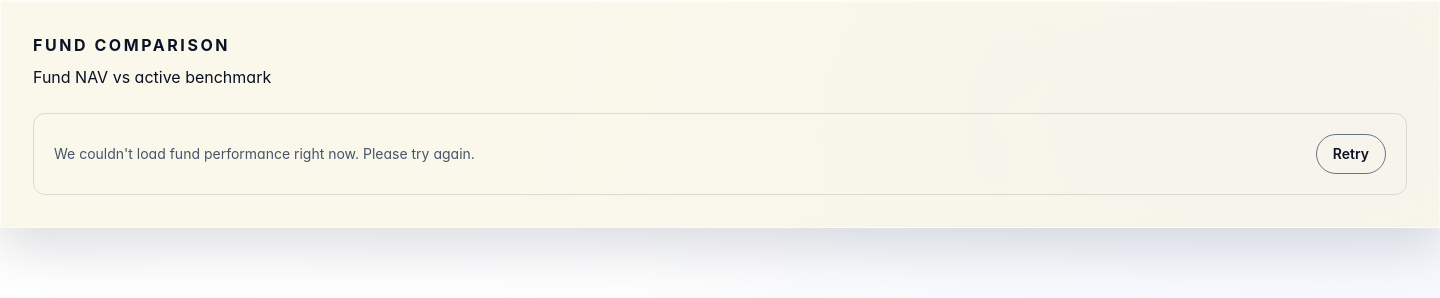
it: FundComparison › shows a retryable error and retries the failed request
Expected: the message shows "We couldn't load fund performance right now. Please try again.", [54,145,475,162]
Click the button "Retry". click: {"x": 1351, "y": 154}
box: [1316,134,1386,174]
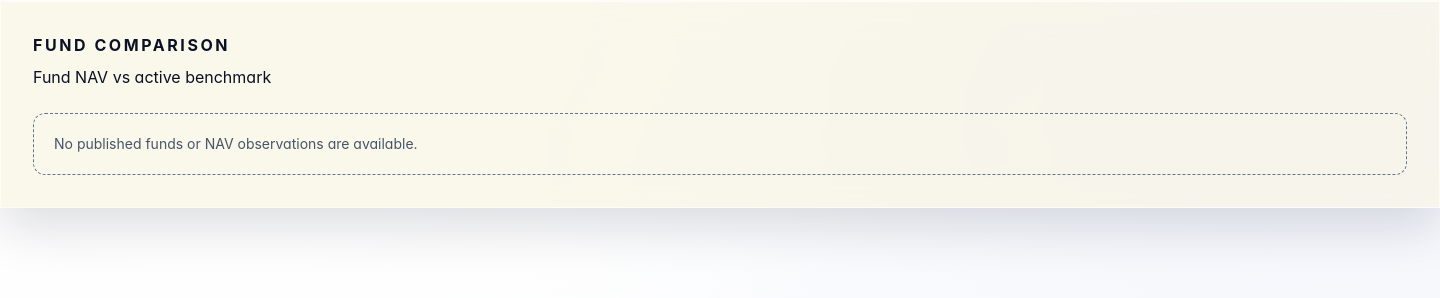
Now the text "No published funds or NAV observations are available." is shown, box [33,113,1407,175]
